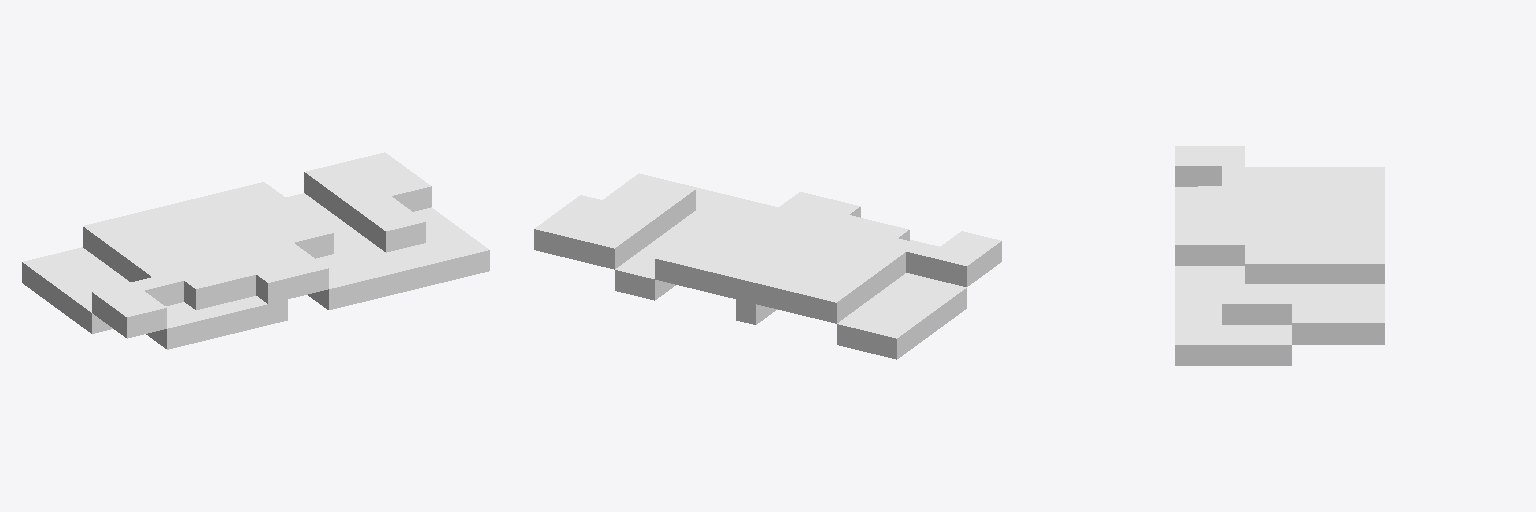
File: toallita.obj
The picture shows the model from 3 angles: view 1: azimuth 30°, elevation 25°; view 2: azimuth 150°, elevation 25°; view 3: azimuth 270°, elevation 25°; orthographic projection.
Visible parts, largest first — view 1: object 1; view 2: object 1; view 3: object 1.
Boxes of the visible parts, x1,y1,x2,y2 form: object 1: [22, 152, 489, 349]; object 1: [534, 173, 1001, 359]; object 1: [1175, 146, 1384, 365].
Size of the model in its own units: 1.8 by 0.2 by 0.9.